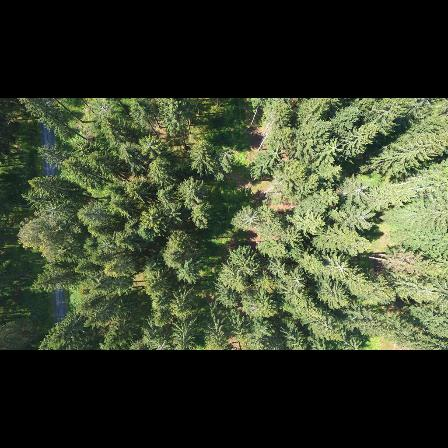Sick: (238, 204, 265, 233), (347, 175, 375, 202), (330, 258, 353, 280), (288, 270, 309, 290)
